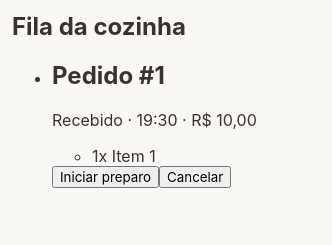
Cozinha › mostra a mensagem do backend quando a transição é recusada (409)
Step 1. Click the button "Cancelar" → (195, 177), box x1=159 y1=166 x2=231 y2=188
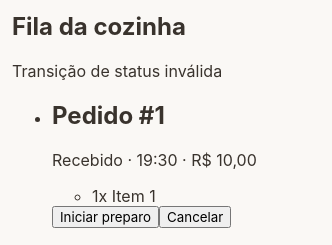
expect the message reads "Transição de status inválida": met, box x1=12 y1=61 x2=222 y2=81
